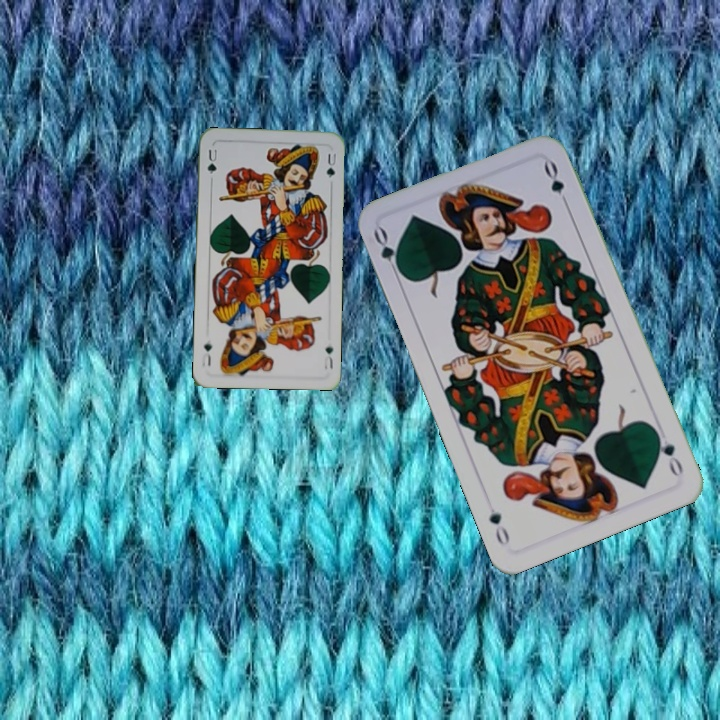GO: (369, 224, 406, 281), (651, 426, 686, 480)
GU: (203, 145, 219, 183), (320, 342, 336, 372)
